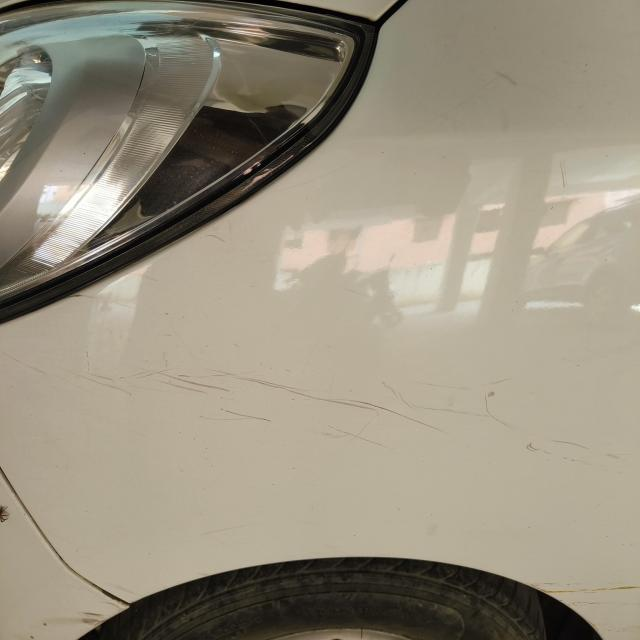scratch: (56, 344, 630, 470), (528, 577, 640, 614)
